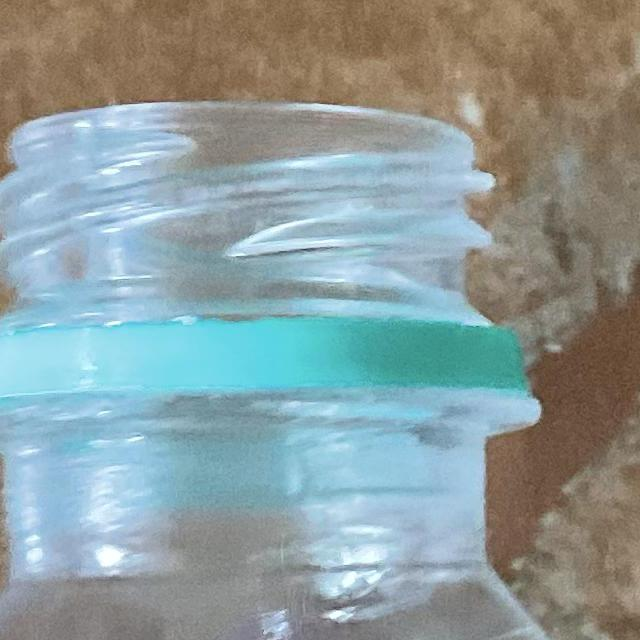open-cap: (0, 58, 523, 412)
